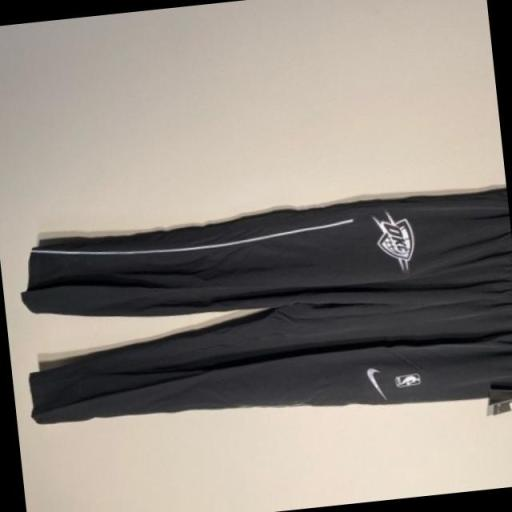Nike: (356, 356, 391, 403)
